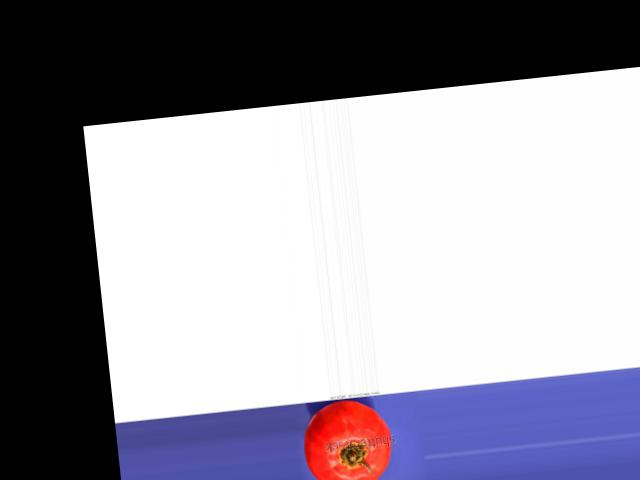tomato: (299, 397, 395, 480)
